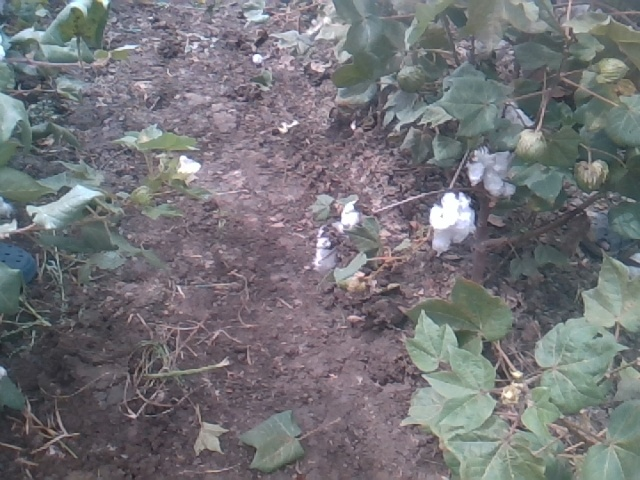cotton: (428, 189, 477, 254), (489, 150, 518, 200), (464, 144, 492, 184)
